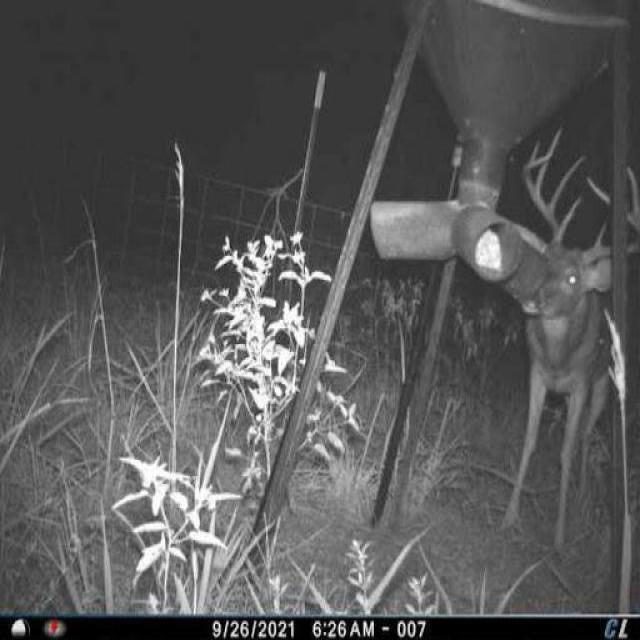deer: (496, 114, 640, 574)
